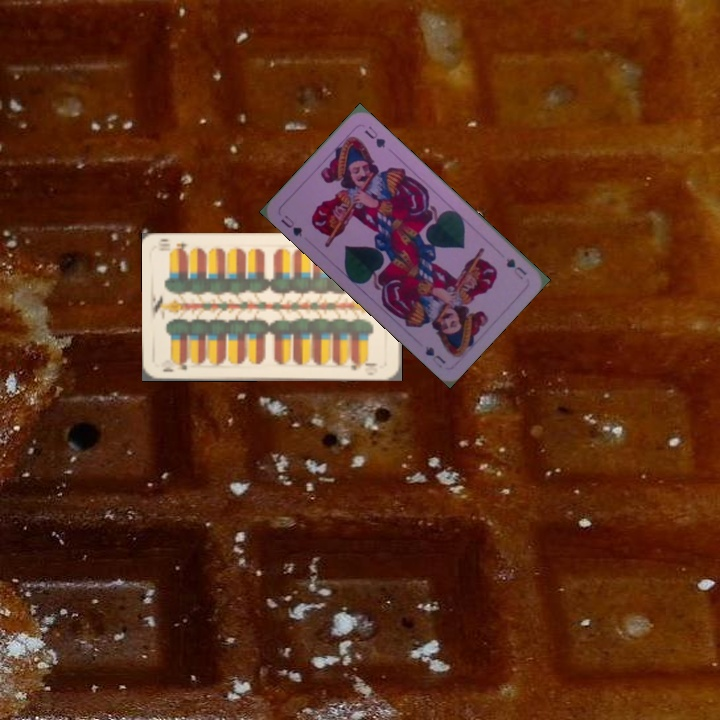E10: (159, 357, 190, 374)
GU: (276, 211, 305, 240), (502, 254, 529, 282)
